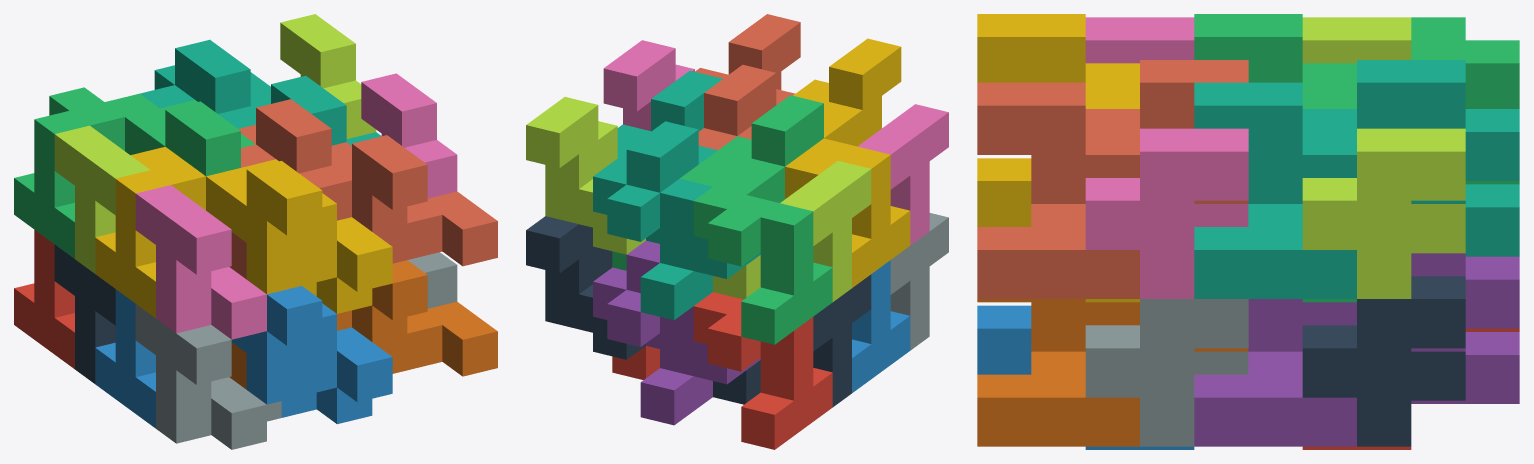
The model's file is tiling.obj.
3 views of the same model, side by side, from view 1: azimuth 30°, elevation 25°; view 2: azimuth 150°, elevation 25°; view 3: azimuth 270°, elevation 25° (orthographic). The views are drawn at different scales.
Visible parts, largest first — view 1: copy_4_domain_4, copy_2_domain_4, copy_4_domain_8, copy_2_domain_2, copy_4_domain_2, copy_4_domain_6, copy_1_domain_3, copy_1_domain_4, copy_2_domain_3, copy_3_domain_4, copy_3_domain_8, copy_3_domain_7 (+12 smaller); view 2: copy_1_domain_3, copy_1_domain_1, copy_1_domain_7, copy_3_domain_7, copy_1_domain_5, copy_3_domain_5, copy_1_domain_4, copy_2_domain_3, copy_2_domain_4, copy_4_domain_4, copy_3_domain_3, copy_2_domain_1 (+12 smaller); view 3: copy_4_domain_8, copy_4_domain_7, copy_3_domain_7, copy_3_domain_5, copy_3_domain_8, copy_4_domain_6, copy_3_domain_6, copy_4_domain_5, copy_4_domain_4, copy_3_domain_3, copy_1_domain_5, copy_1_domain_7 (+9 smaller).
Boxes of the visible parts, x1,y1,x2,y2 form: copy_4_domain_4: (226, 161, 392, 294); copy_2_domain_4: (135, 185, 266, 339); copy_4_domain_8: (332, 135, 497, 266); copy_2_domain_2: (135, 304, 281, 449); copy_4_domain_2: (231, 286, 392, 404); copy_4_domain_6: (352, 260, 497, 376); copy_1_domain_3: (14, 87, 165, 258); copy_1_domain_4: (95, 146, 246, 318); copy_2_domain_3: (54, 125, 149, 273); copy_3_domain_4: (229, 99, 351, 279); copy_3_domain_8: (361, 73, 457, 198); copy_3_domain_7: (280, 14, 376, 138); copy_1_domain_3: (693, 172, 832, 344); copy_1_domain_1: (693, 292, 832, 449); copy_1_domain_7: (593, 152, 712, 319); copy_3_domain_7: (526, 97, 645, 254); copy_1_domain_5: (593, 267, 712, 425); copy_3_domain_5: (526, 216, 645, 359); copy_1_domain_4: (785, 119, 910, 287); copy_2_domain_3: (713, 160, 871, 301); copy_2_domain_4: (857, 104, 948, 245); copy_4_domain_4: (824, 38, 901, 146); copy_3_domain_3: (626, 121, 760, 278); copy_2_domain_1: (713, 274, 871, 407); copy_4_domain_8: (977, 82, 1139, 298); copy_4_domain_7: (1194, 82, 1356, 298); copy_3_domain_7: (1302, 128, 1465, 298); copy_3_domain_5: (1302, 276, 1465, 446); copy_3_domain_8: (1085, 128, 1248, 298); copy_4_domain_6: (977, 299, 1139, 446); copy_3_domain_6: (1085, 299, 1248, 446); copy_4_domain_5: (1194, 299, 1356, 446); copy_4_domain_4: (977, 14, 1139, 226); copy_3_domain_3: (1302, 60, 1465, 131); copy_1_domain_5: (1411, 256, 1519, 403); copy_1_domain_7: (1411, 109, 1519, 256).
Size of the model in its own units: 8 by 7 by 10.
